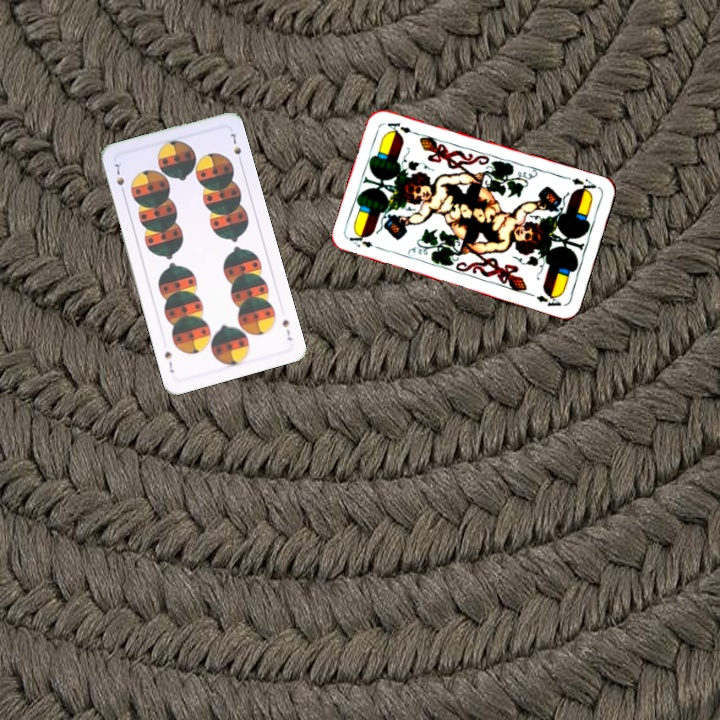EA: (345, 229, 385, 252), (568, 174, 599, 197)
S7: (110, 157, 127, 198), (278, 315, 295, 343)
